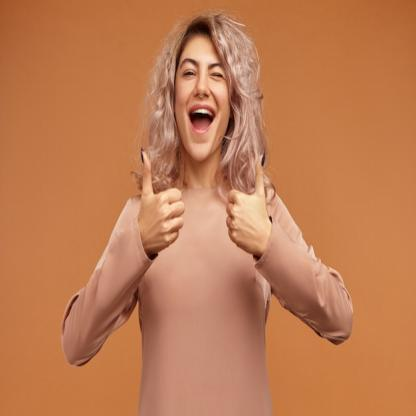thumb_up: (128, 140, 187, 258), (224, 146, 276, 253)
